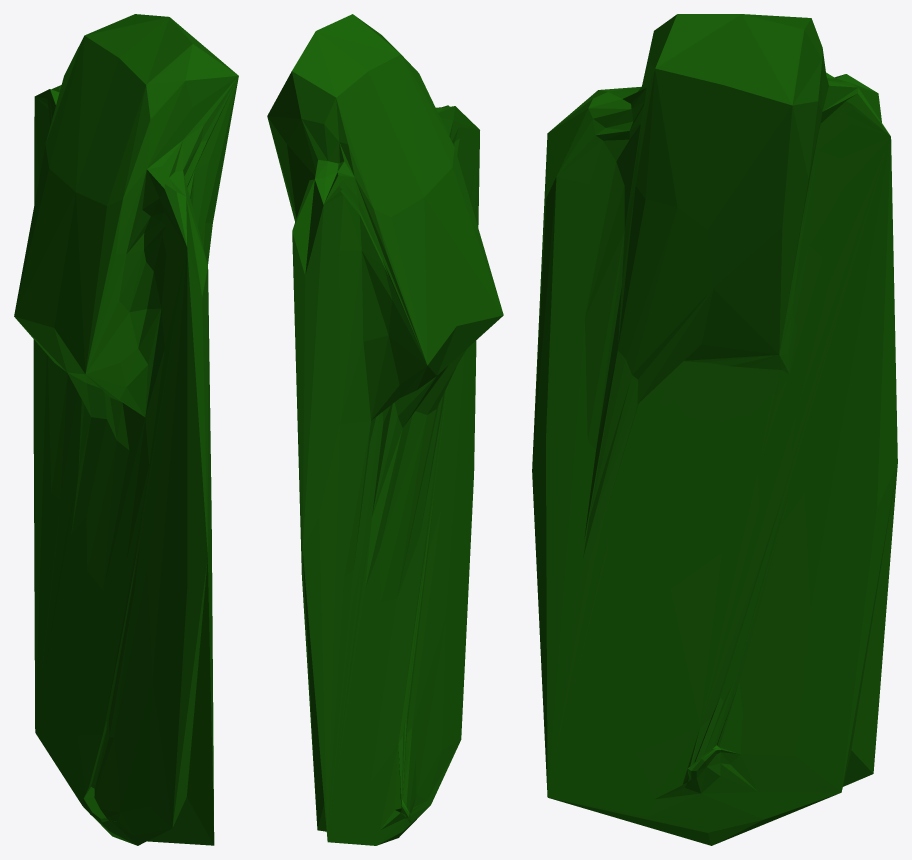
3 renders of one model, left to right at view 1: azimuth 30°, elevation 25°; view 2: azimuth 150°, elevation 25°; view 3: azimuth 270°, elevation 25°, orthographic. The views are drawn at different scales.
Visible parts, largest first — view 1: 767_Cube.3086; view 2: 767_Cube.3086; view 3: 767_Cube.3086.
Part boxes in pixels (x1,y1,x2,y2): 767_Cube.3086: (14, 14, 238, 845); 767_Cube.3086: (267, 14, 503, 845); 767_Cube.3086: (532, 14, 897, 845).
Size of the model in its own units: 2.99 by 13.9 by 5.37.
